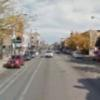cars: (4, 54, 24, 68)
